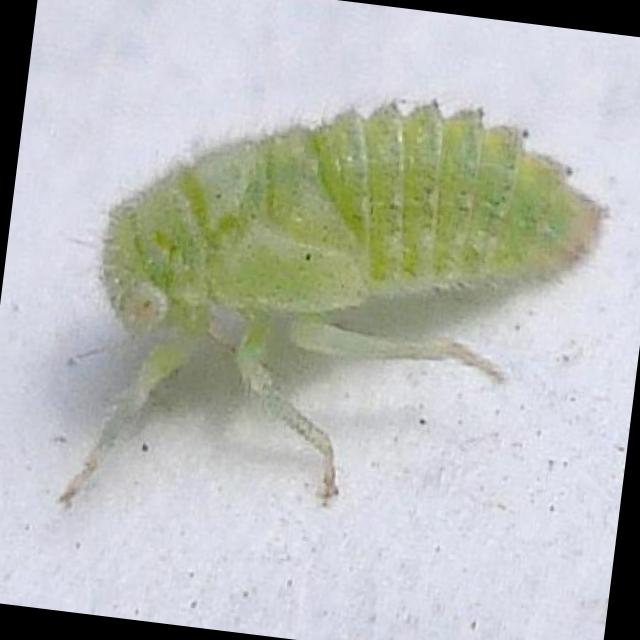green-leafhopper: (59, 110, 602, 511)
